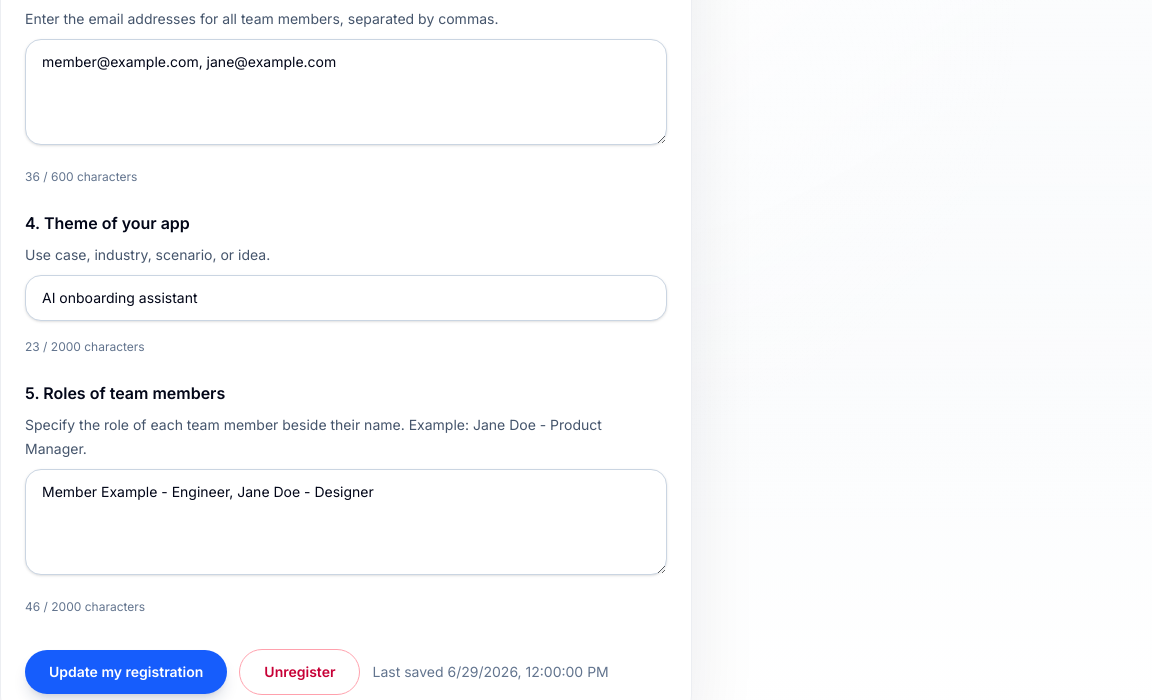
Test: RegistrationPage › lets a participant unregister before the deadline after confirming the warning
This screenshot has width=1152, height=700.
(page scrolled)
Step 1. Click the button "Unregister" → (300, 672), box 239,649 -> 360,695
(page scrolled)
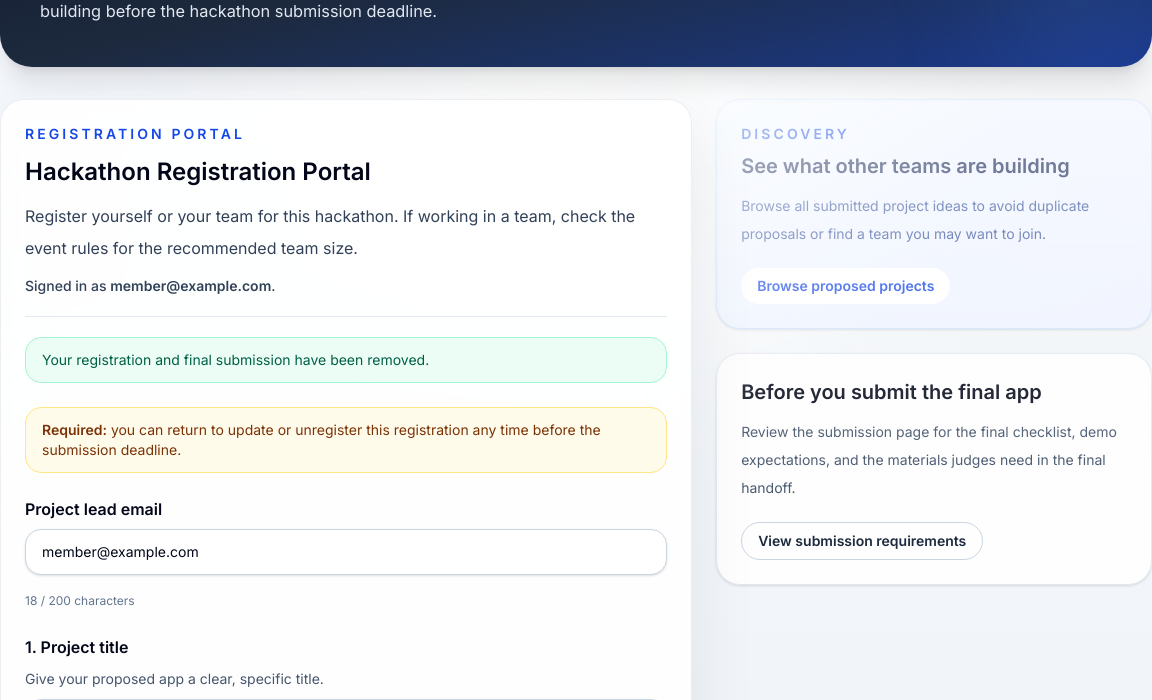
Check: the text "Your registration and final submission have been removed." is shown, box 25,337 -> 667,383
